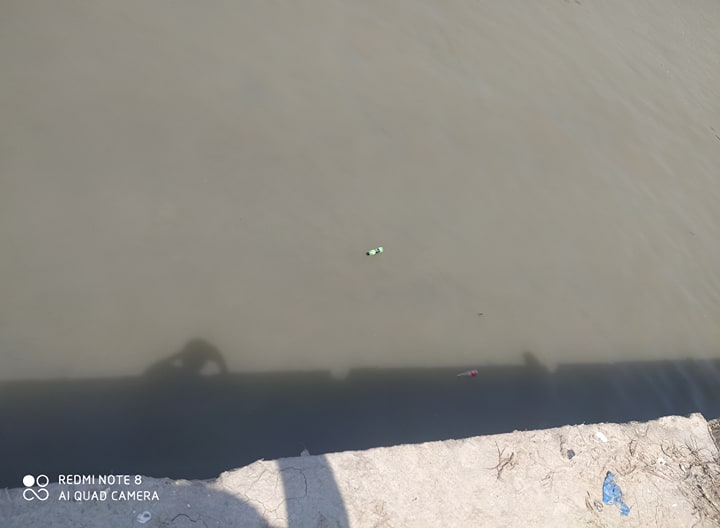Plastic Bottle: (457, 369, 479, 377), (366, 246, 383, 256)
